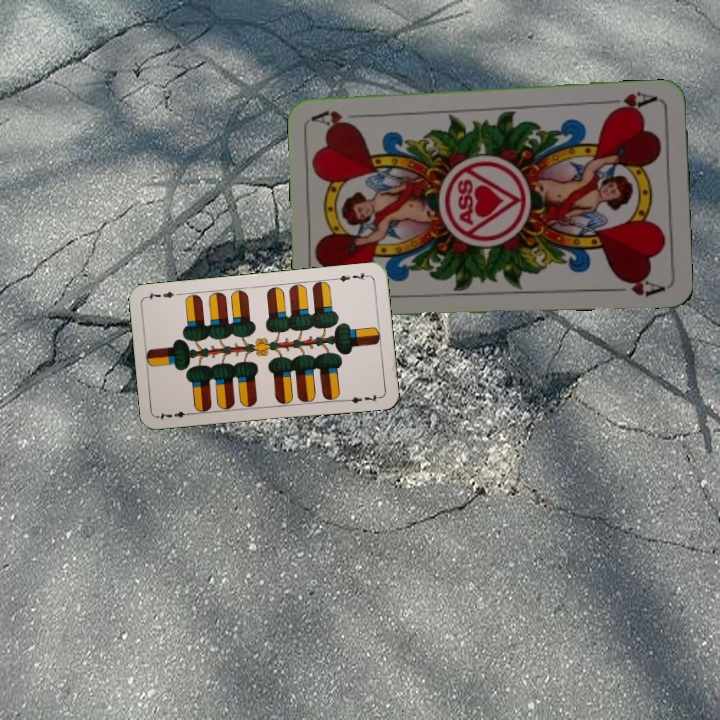E7: (331, 269, 371, 284), (155, 407, 195, 422)
HA: (602, 88, 660, 115)
